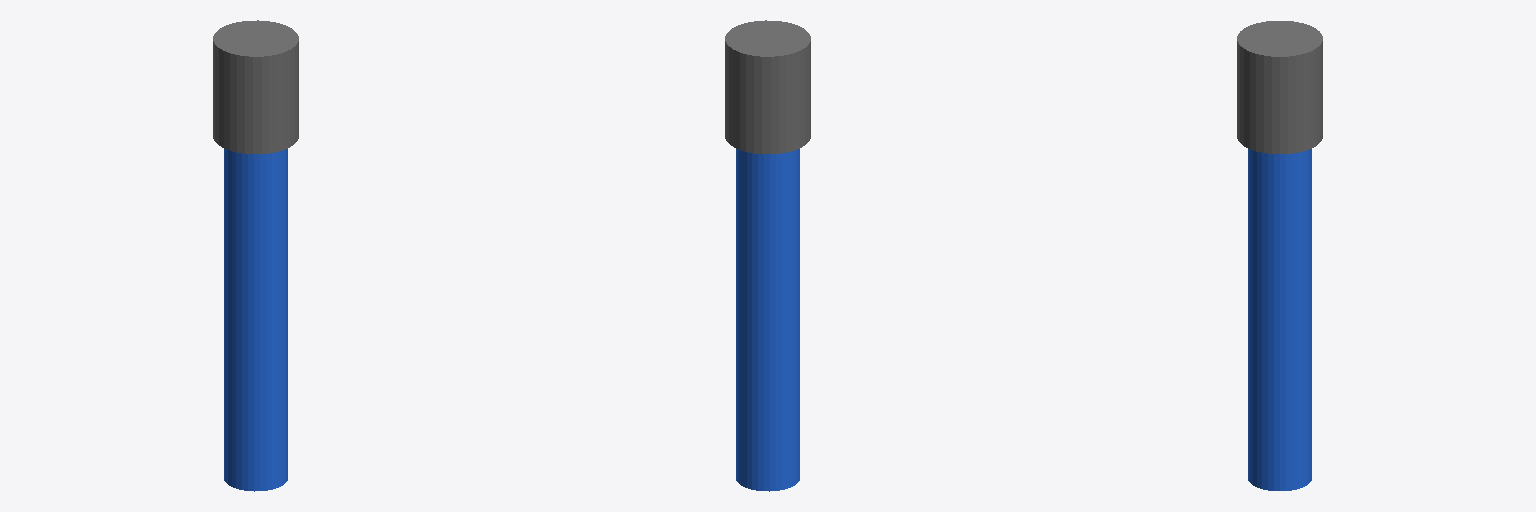
The robot description file, URDF, robot "marengo_shoulder_pitch_right_only":
<?xml version="1.0"?>
<!-- Single right shoulder pitch for isolated bench bring-up.
     Matches config/bringup/shoulder_pitch_right_only/robot.yaml.
     Limits and safety_controller match shoulder_pitch_weighted.urdf for consistency. -->
<robot name="marengo_shoulder_pitch_right_only">
  <link name="base_link">
    <inertial>
      <mass value="0.001"/>
      <inertia ixx="1e-6" ixy="0" ixz="0" iyy="1e-6" iyz="0" izz="1e-6"/>
    </inertial>
    <visual>
      <origin xyz="0 0 0" rpy="0 0 0"/>
      <geometry>
        <cylinder radius="0.04" length="0.10"/>
      </geometry>
      <material name="mount_gray">
        <color rgba="0.5 0.5 0.5 1"/>
      </material>
    </visual>
  </link>
  <link name="right_upper_arm_stub">
    <!-- COM calibrated 2026-06-19 from 700g bench Phase 4: effective COM ~14.2in vs original 18in.
         tau_meas/tau_g ratio was 0.73 (27% over-compensation). Mass (0.7 kg) unchanged. -->
    <inertial>
      <mass value="0.7"/>
      <origin xyz="0 0 -0.53" rpy="0 0 0"/>
      <mass value="0.7"/>
      <origin xyz="0 0 -0.36" rpy="0 0 0"/>
      <inertia ixx="0.001" ixy="0" ixz="0" iyy="0.001" iyz="0" izz="0.0001"/>
    </inertial>
    <visual>
      <origin xyz="0 0 -0.2" rpy="0 0 0"/>
      <geometry>
        <cylinder radius="0.03" length="0.4"/>
      </geometry>
      <material name="arm_blue">
        <color rgba="0.23 0.51 0.96 1"/>
      </material>
    </visual>
  </link>
  <joint name="right_shoulder_pitch" type="revolute">
    <parent link="base_link"/>
    <child link="right_upper_arm_stub"/>
    <origin xyz="0 0 0" rpy="0 0 0"/>
    <axis xyz="0 1 0"/>
    <limit lower="-0.9" upper="3.17" effort="10" velocity="2.0"/>
    <safety_controller soft_lower_limit="-0.872665" soft_upper_limit="3.141593" k_position="10" k_velocity="1"/>
  </joint>
</robot>

--- What the picture shows (computed from the rendered views, not written in the file) ---
3 views of the same robot in one strip: view 1: azimuth 30°, elevation 25°; view 2: azimuth 150°, elevation 25°; view 3: azimuth 270°, elevation 25° (orthographic).
Model marengo_shoulder_pitch_right_only with 2 links and 1 joints (1 revolute), rooted at base_link, posed every joint at zero.
Links seen in each view (by area): view 1: right_upper_arm_stub, base_link; view 2: right_upper_arm_stub, base_link; view 3: right_upper_arm_stub, base_link.
Boxes of the visible links, <box> form: right_upper_arm_stub: <box>224,149,287,491</box>; base_link: <box>213,20,298,153</box>; right_upper_arm_stub: <box>736,149,799,491</box>; base_link: <box>725,20,810,153</box>; right_upper_arm_stub: <box>1248,149,1311,490</box>; base_link: <box>1237,21,1322,153</box>.
Size in the robot's own frame: 0.08 by 0.08 by 0.45 metres.
Geometry: primitives only (box / cylinder / sphere), no mesh files.
